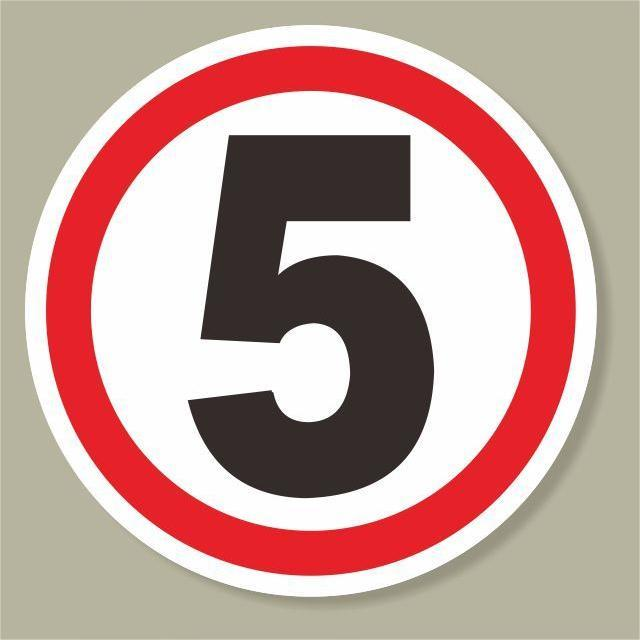speed limit 10: (23, 23, 599, 600)
